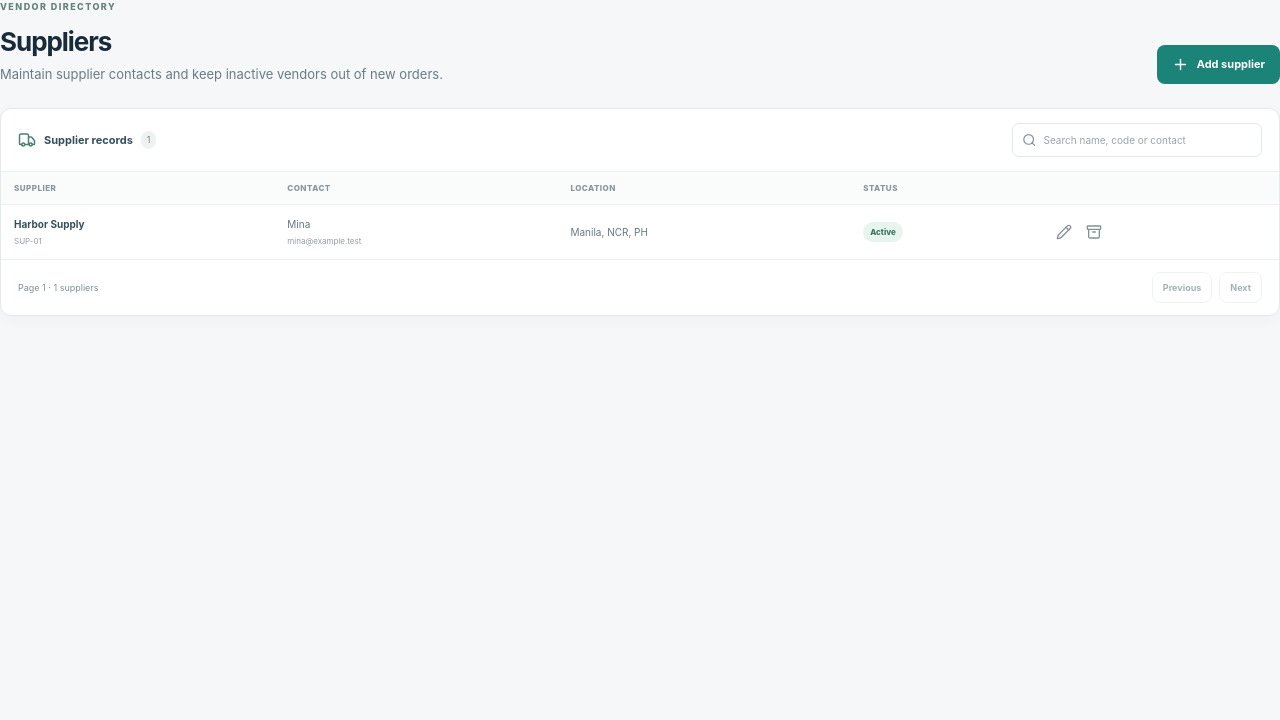
Test: Purchasing pages › creates a supplier profile after validating required fields
Later steps or results of the test are not shown.
Expected: the text "Harbor Supply" is shown, left=14, top=218, right=85, bottom=230
Click the button "Add supplier": click(1218, 64) left=1157, top=45, right=1279, bottom=84
(page scrolled)
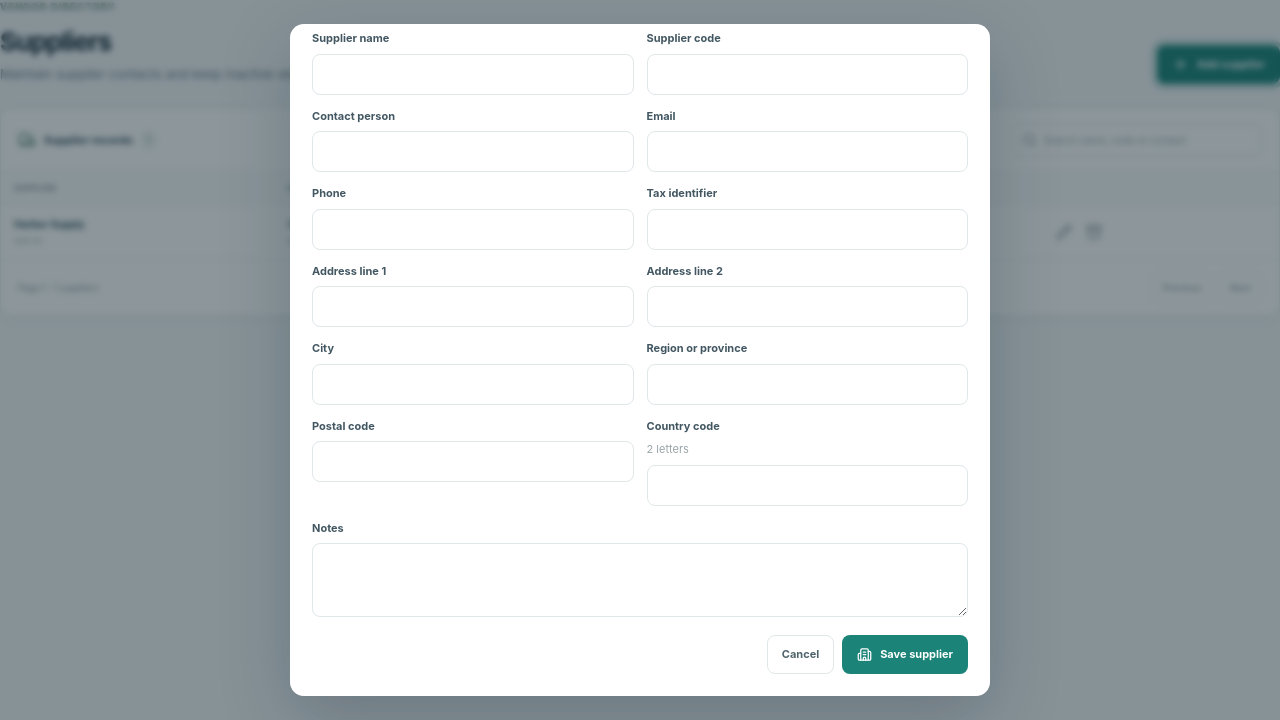
Click the button "Save supplier": click(905, 654) left=842, top=635, right=968, bottom=674
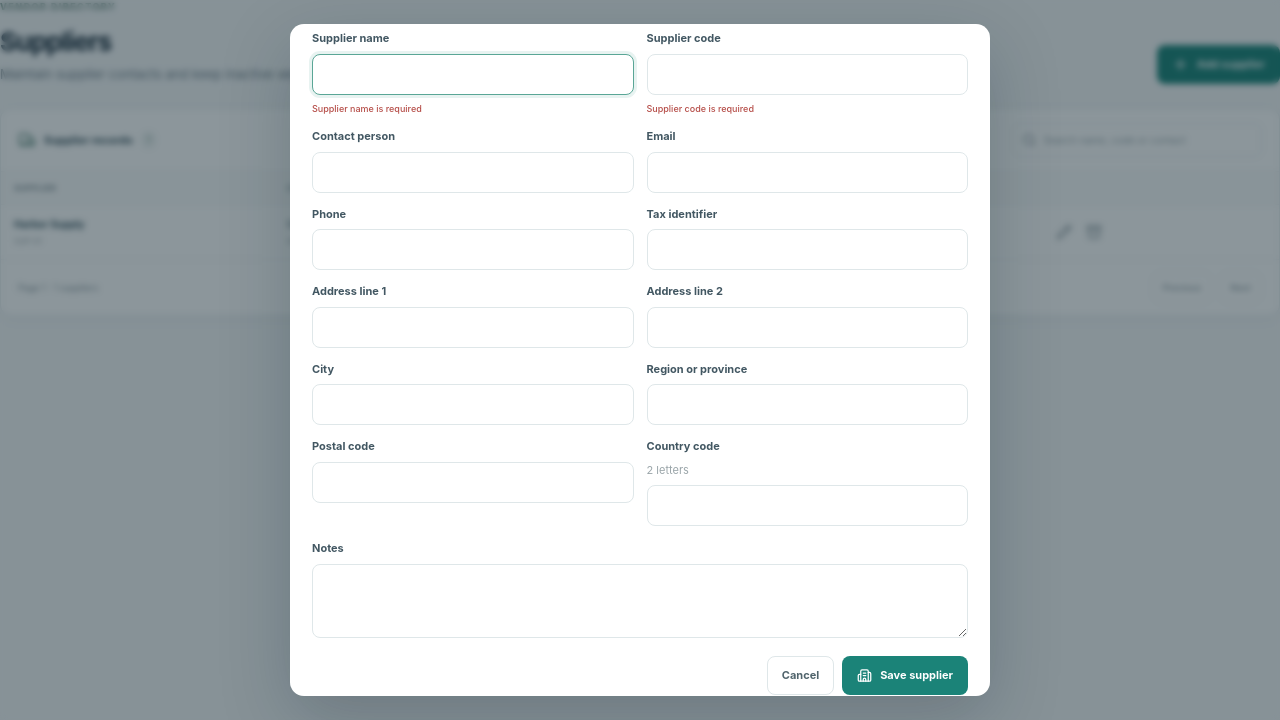
Expected: the text "Supplier name is required" is shown, left=312, top=102, right=422, bottom=114
